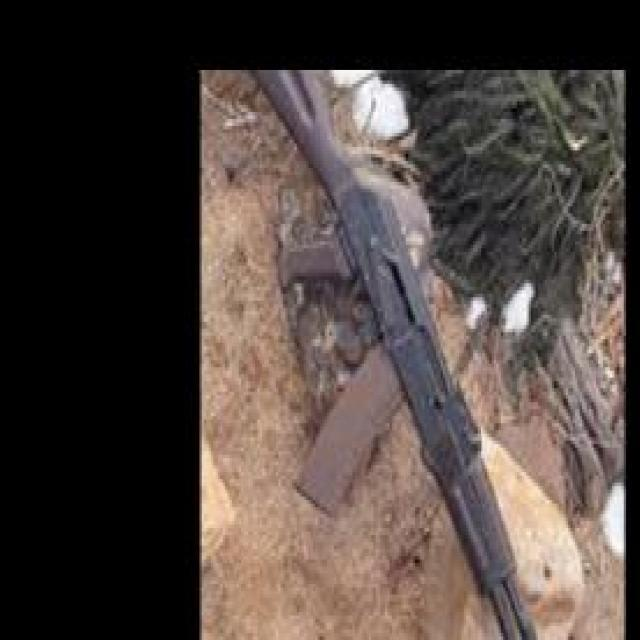weapon: (251, 70, 536, 640)
